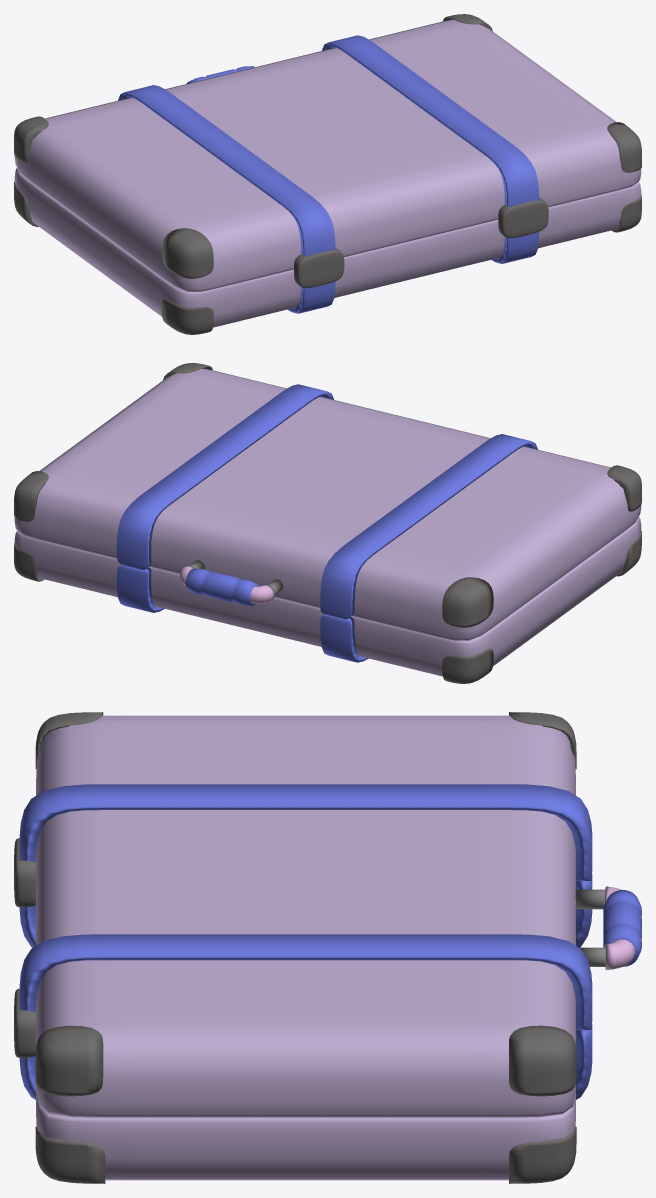
File: AR_Suitcase.fbx
The picture shows the model from 3 angles, top to bottom: view 1: azimuth 30°, elevation 25°; view 2: azimuth 150°, elevation 25°; view 3: azimuth 270°, elevation 25°; orthographic projection. The views are drawn at different scales.
Parts seen in each view (by area): view 1: AR_Suitcase; view 2: AR_Suitcase; view 3: AR_Suitcase.
Boxes of the visible parts, x1,y1,x2,y2 form: AR_Suitcase: (14, 14, 641, 334); AR_Suitcase: (14, 363, 641, 683); AR_Suitcase: (14, 712, 641, 1183).
Size of the model in its own units: 150 by 31.8 by 116.
